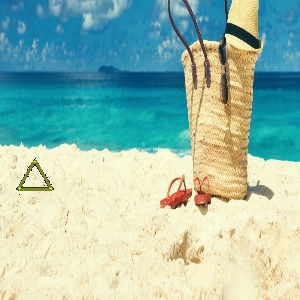triangle: (12, 155, 57, 195)
